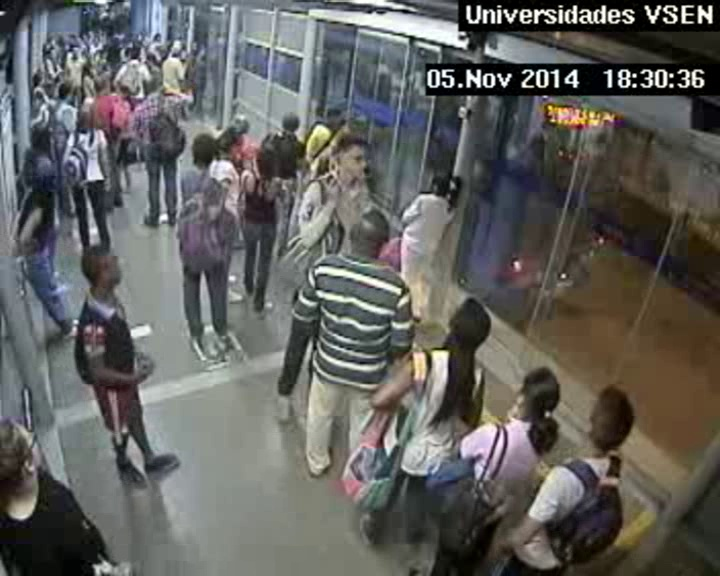person: (586, 385, 641, 452), (1, 422, 53, 487), (513, 363, 566, 421), (447, 298, 494, 348), (350, 208, 391, 255), (82, 245, 123, 288), (339, 137, 373, 179), (191, 132, 219, 167), (31, 157, 59, 188), (218, 129, 245, 159), (253, 148, 280, 177), (31, 124, 53, 147), (282, 112, 301, 135), (75, 108, 93, 129), (230, 111, 248, 132), (430, 175, 446, 196), (325, 110, 342, 129), (147, 77, 163, 95), (93, 78, 108, 94), (31, 92, 45, 107), (32, 72, 45, 87), (83, 63, 96, 77), (58, 84, 71, 98), (119, 86, 131, 100), (165, 41, 177, 54), (128, 48, 138, 60), (145, 54, 155, 65), (111, 21, 121, 32), (191, 41, 201, 52), (178, 50, 188, 61), (68, 34, 78, 44), (70, 50, 80, 60), (176, 39, 185, 50), (99, 51, 108, 62), (48, 49, 58, 58), (93, 36, 102, 45), (111, 39, 120, 48), (48, 38, 57, 47), (43, 44, 51, 53), (65, 43, 73, 52), (103, 17, 111, 25), (125, 33, 133, 41), (154, 33, 161, 41), (81, 33, 88, 41), (104, 5, 112, 12), (88, 31, 94, 37)
